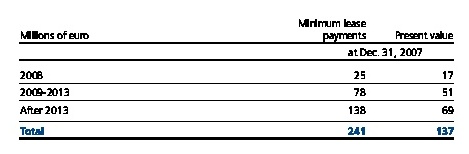table: (0, 0, 469, 154)
